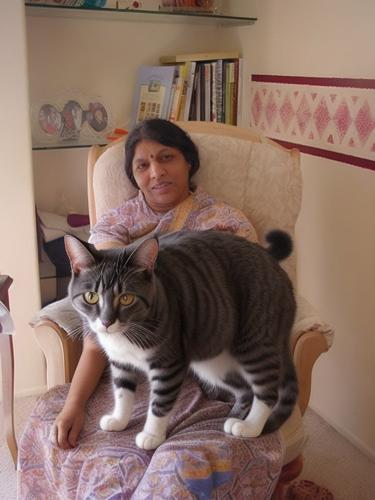cat: (54, 230, 301, 450)
chair: (31, 111, 335, 489)
person: (32, 117, 289, 500)
person/hand: (125, 327, 197, 396), (127, 305, 204, 354)
person/head: (125, 120, 198, 206)
